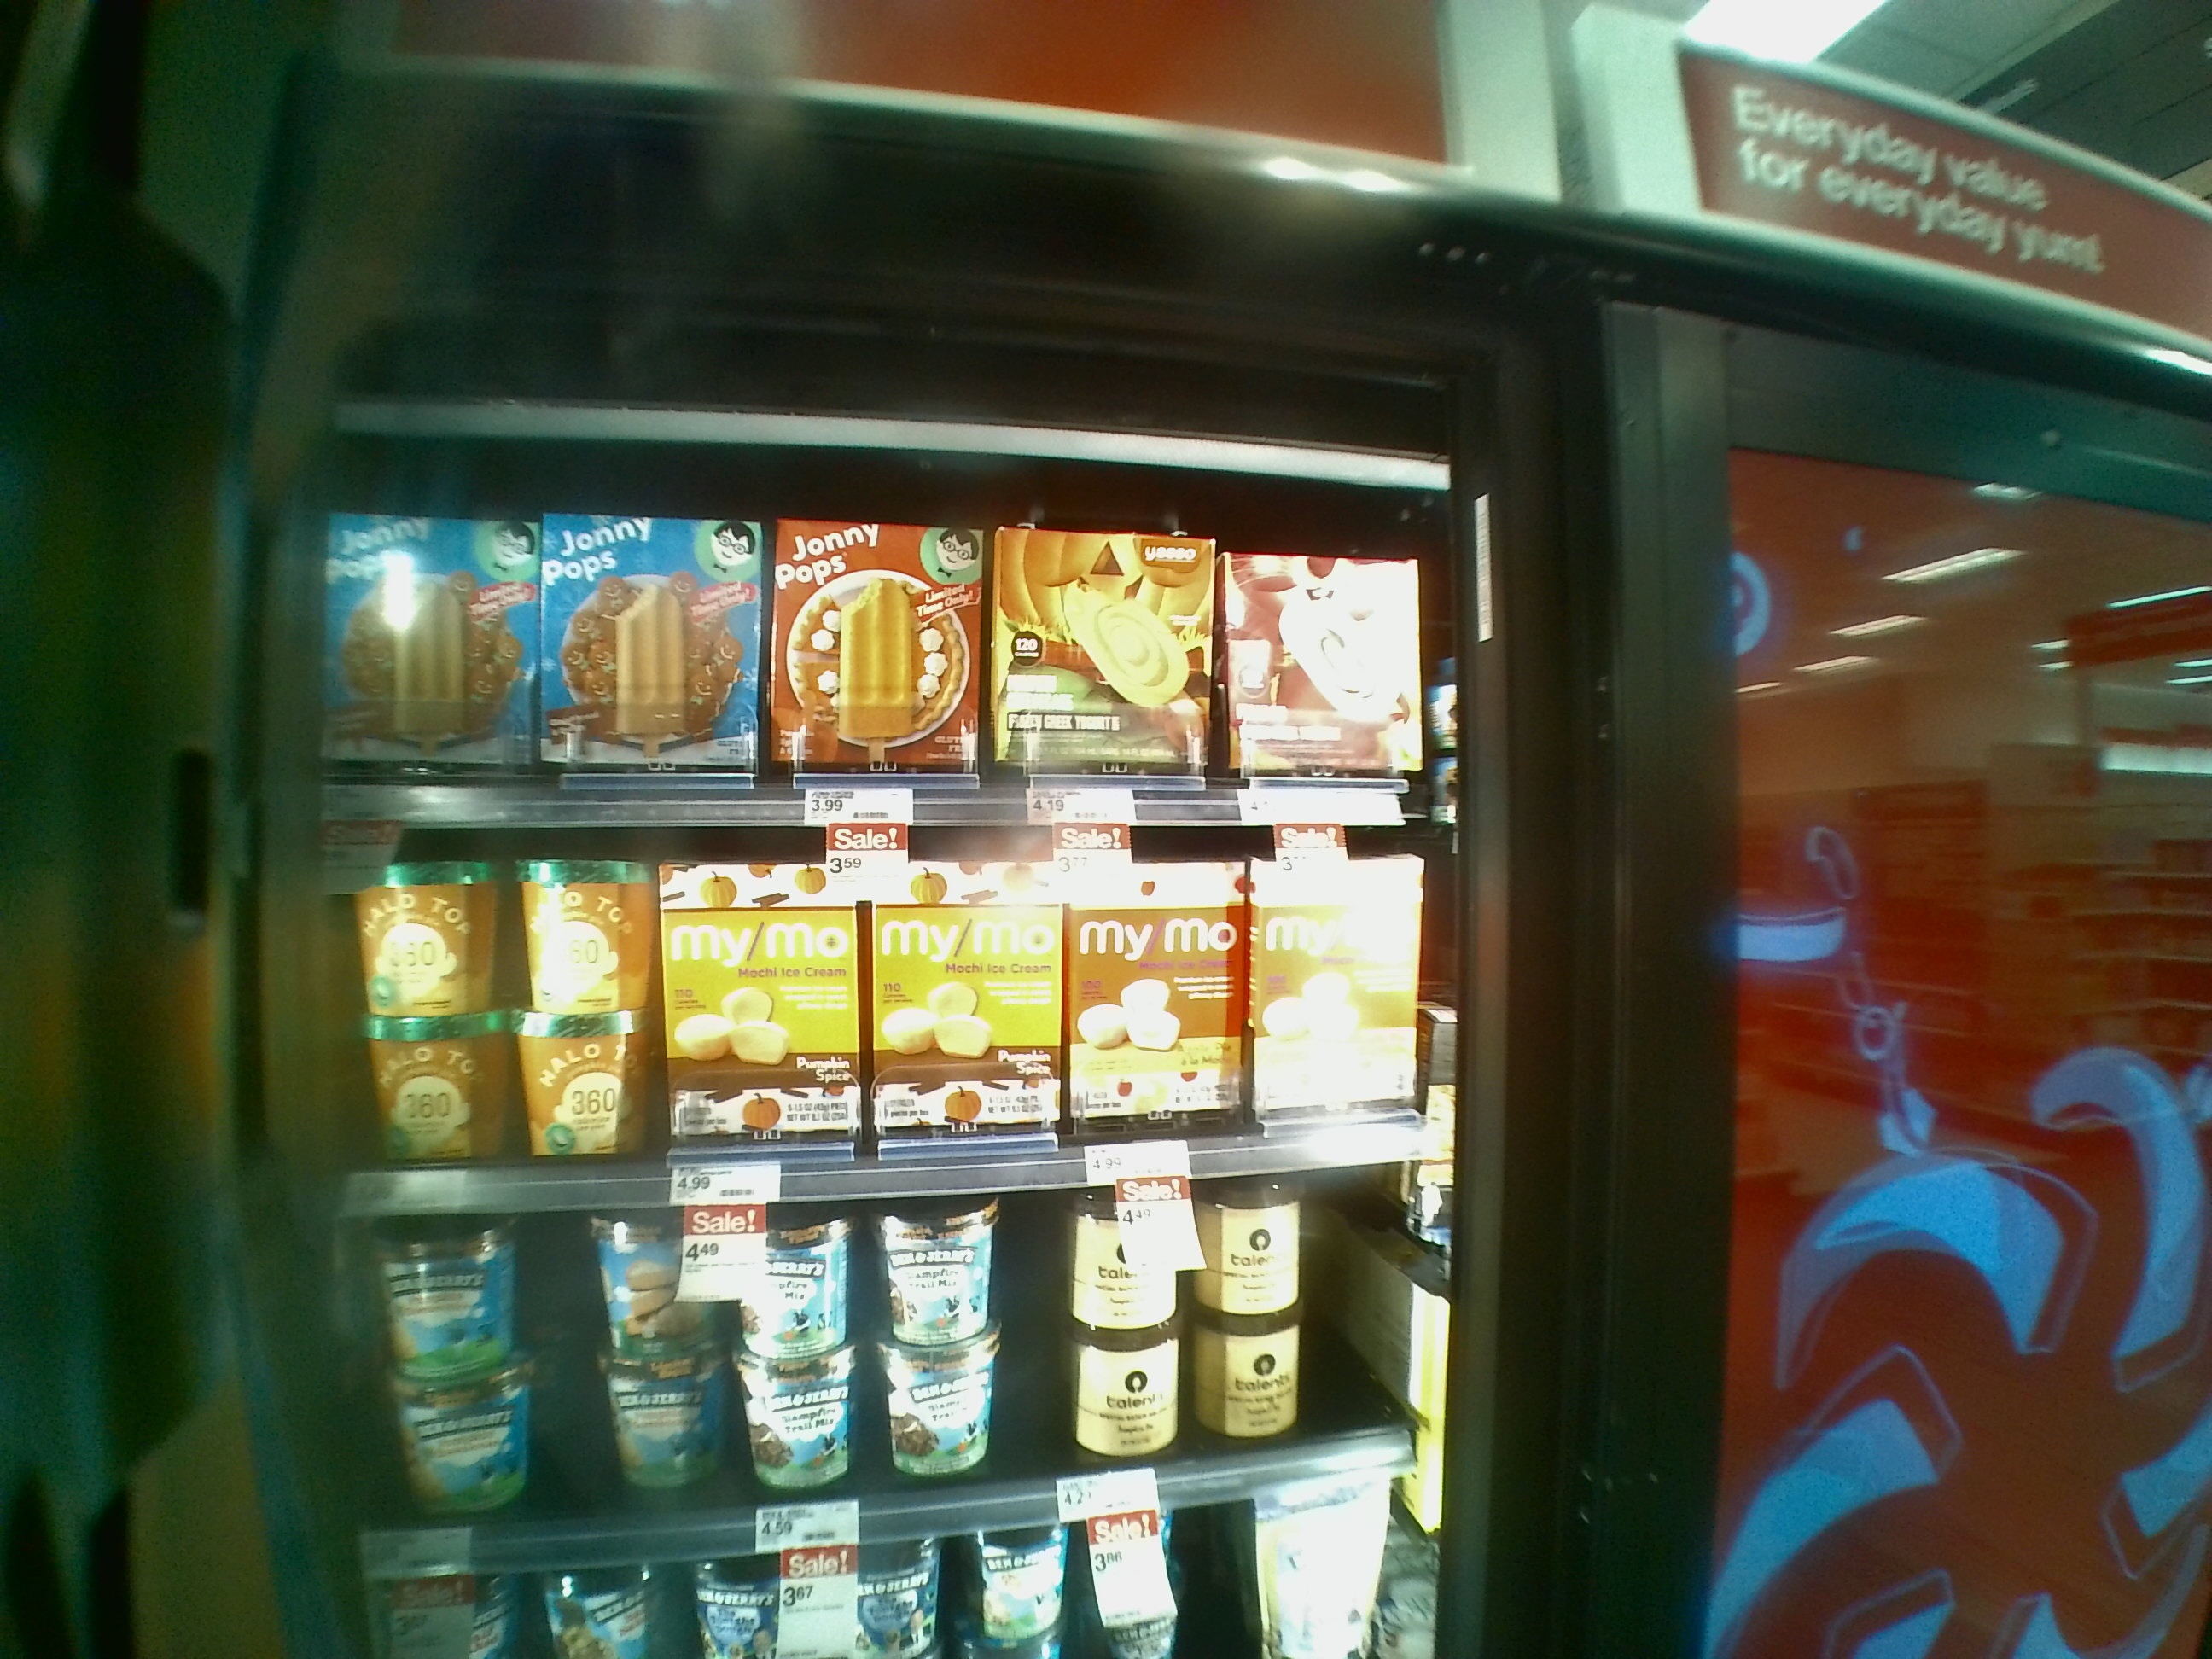shelf: (296, 423, 1444, 823), (301, 809, 1456, 1192), (298, 1180, 1446, 1523)
